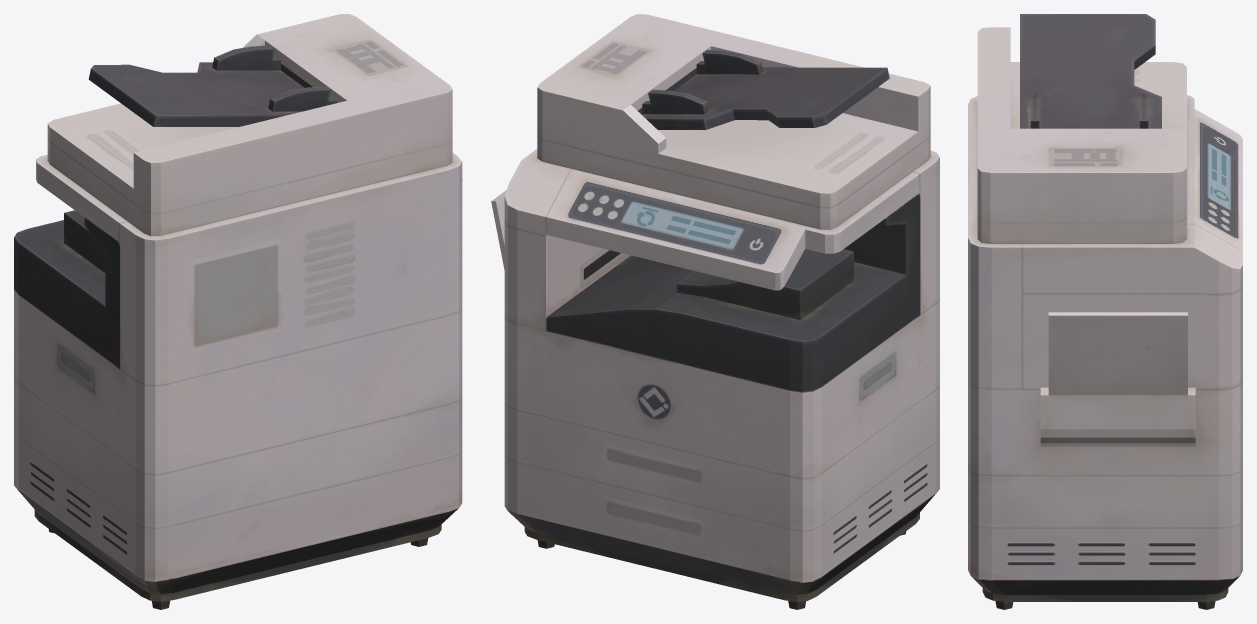
The model's file is P_Printer_001_S1_M01.obj.
The picture shows the model from 3 angles, left to right: view 1: azimuth 30°, elevation 25°; view 2: azimuth 150°, elevation 25°; view 3: azimuth 270°, elevation 25°; orthographic projection. The views are drawn at different scales.
Bounding box in the file's own units: 1.03 × 1.33 × 0.7043.
1 material, 1 textured.
